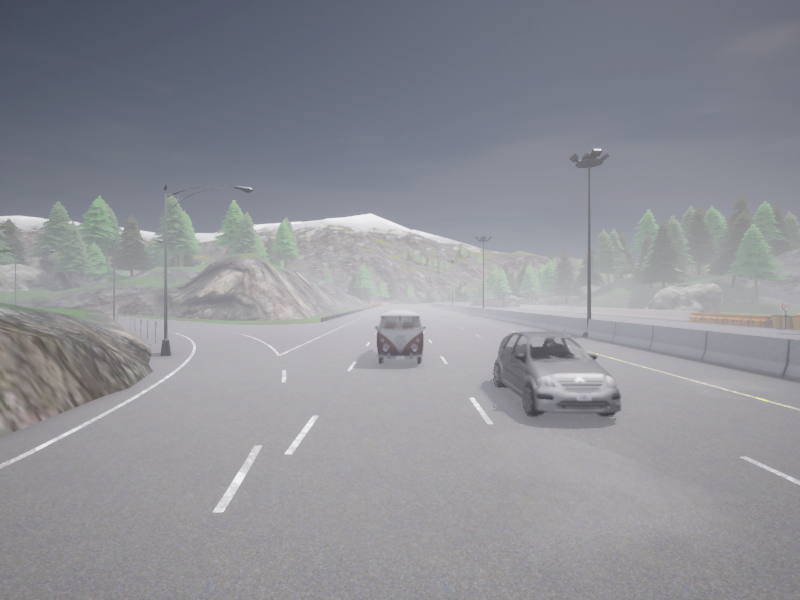vehicle: (494, 331, 621, 416), (374, 310, 425, 363)
